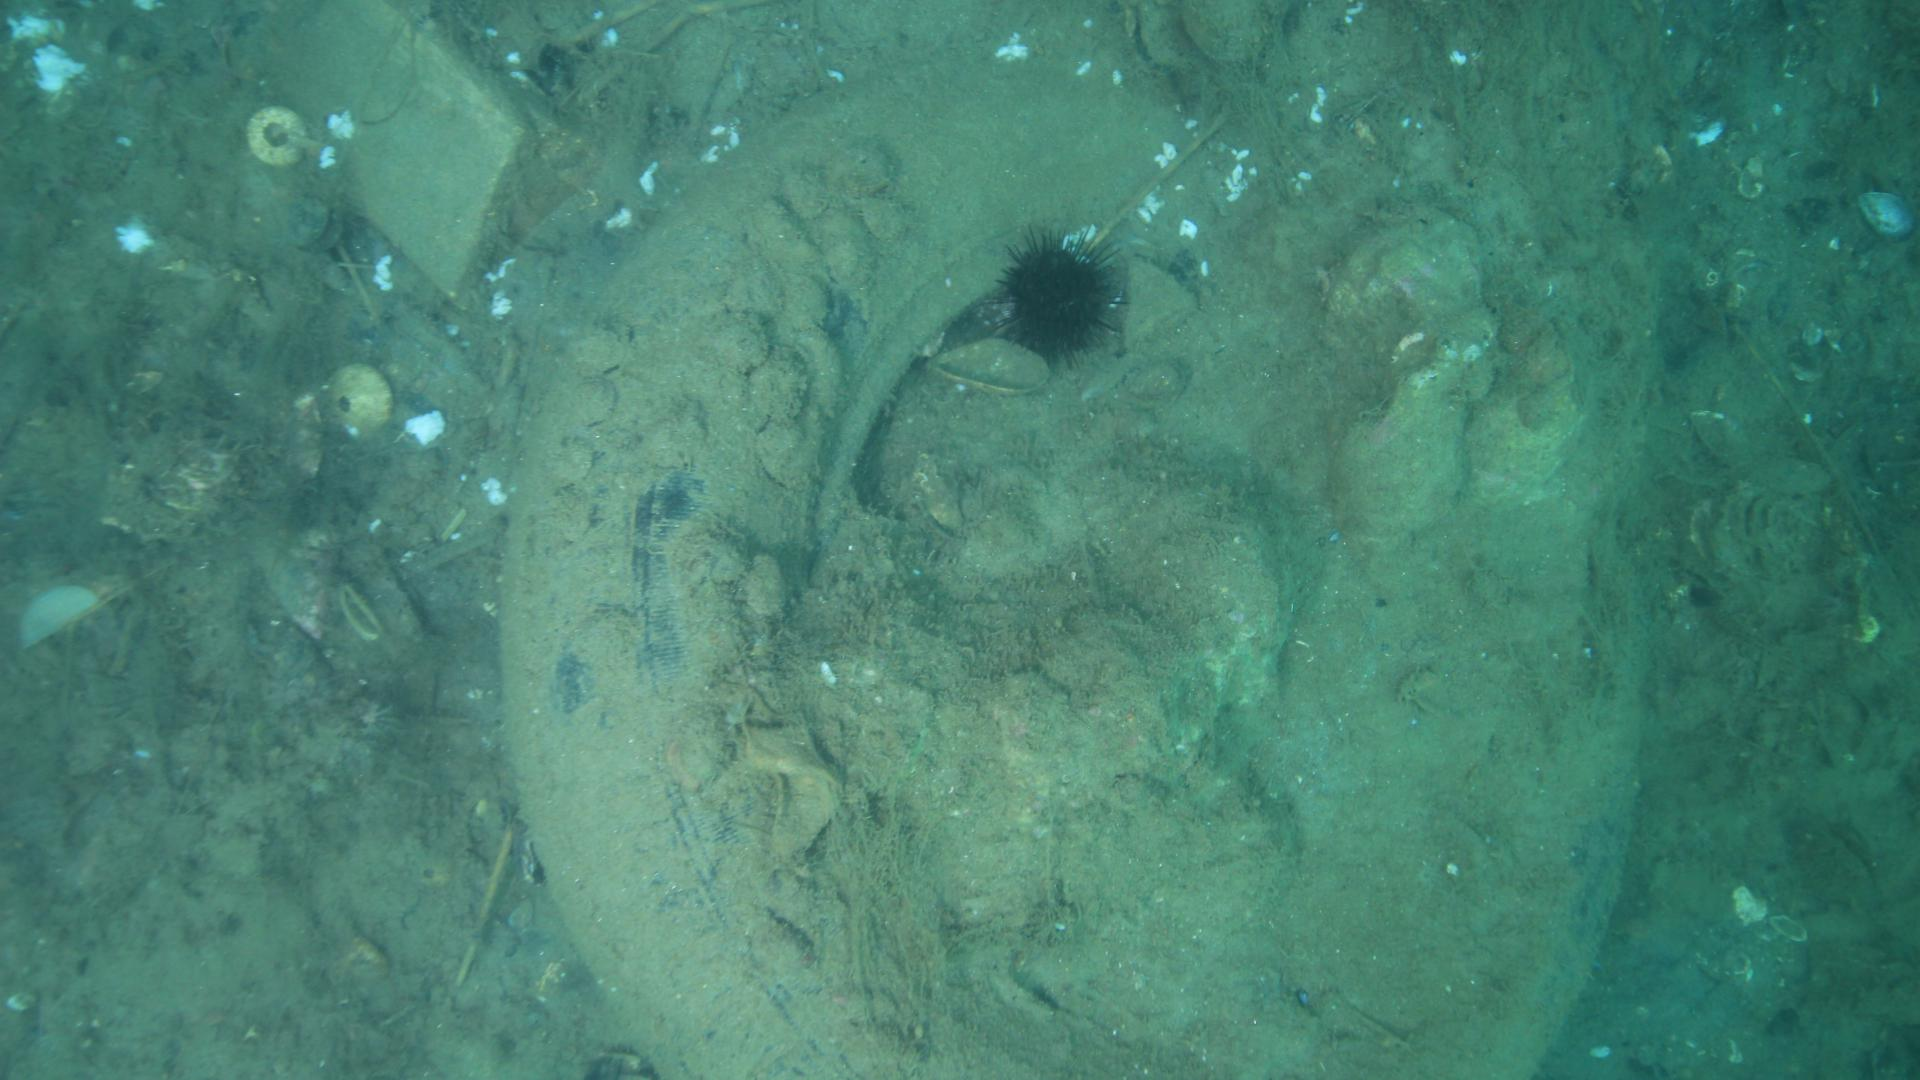tire: (508, 62, 1654, 1080)
wood: (284, 0, 564, 301)
